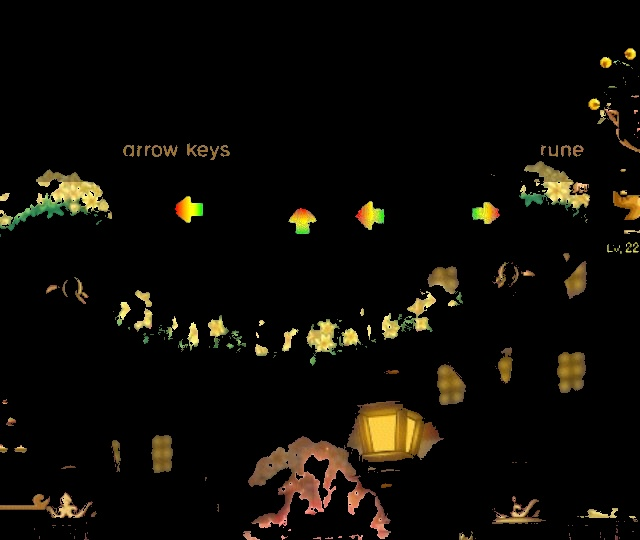rune_box: (121, 163, 533, 265)
